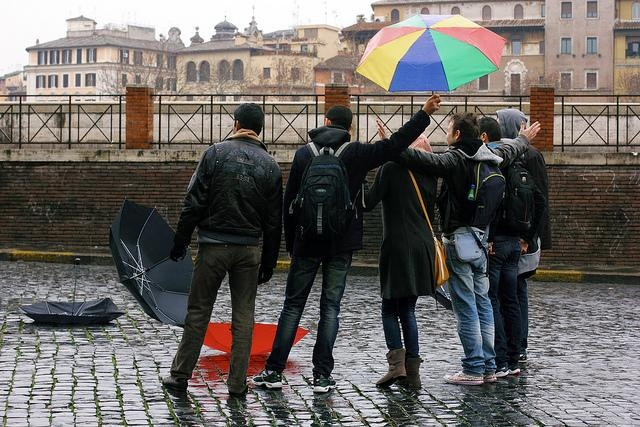person: (253, 93, 442, 395), (160, 101, 283, 396), (342, 132, 442, 389), (423, 112, 501, 385), (492, 104, 553, 357), (478, 117, 537, 376)
